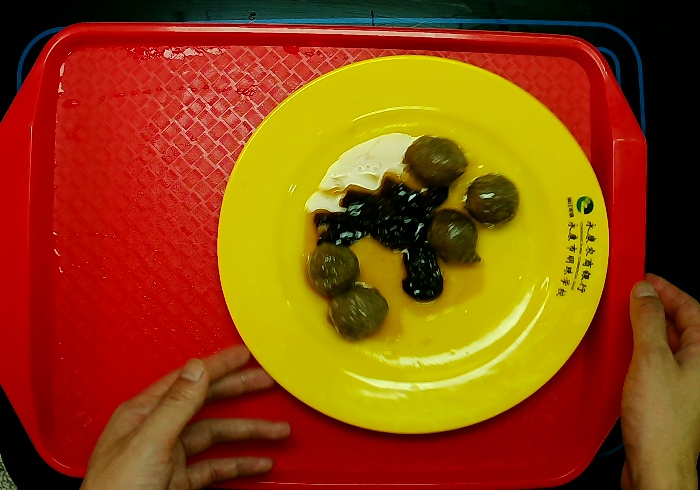YKMZ-Huang_Se_Mian_Pan: (215, 53, 612, 439)
